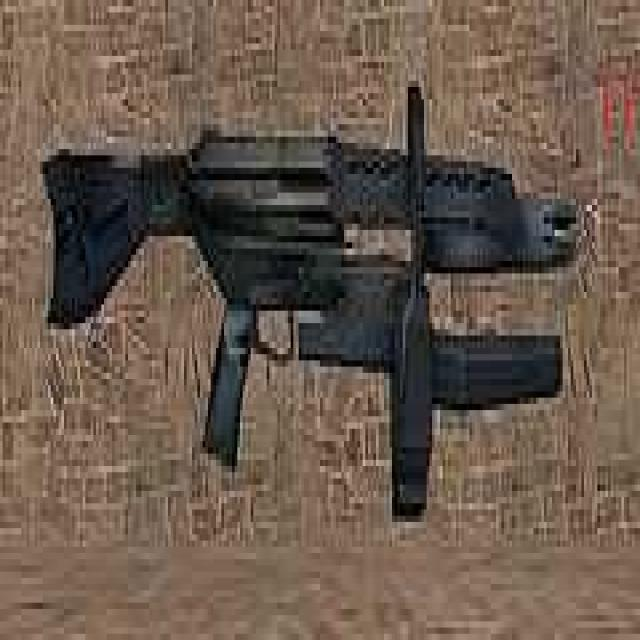Rifle: (38, 91, 579, 365)
